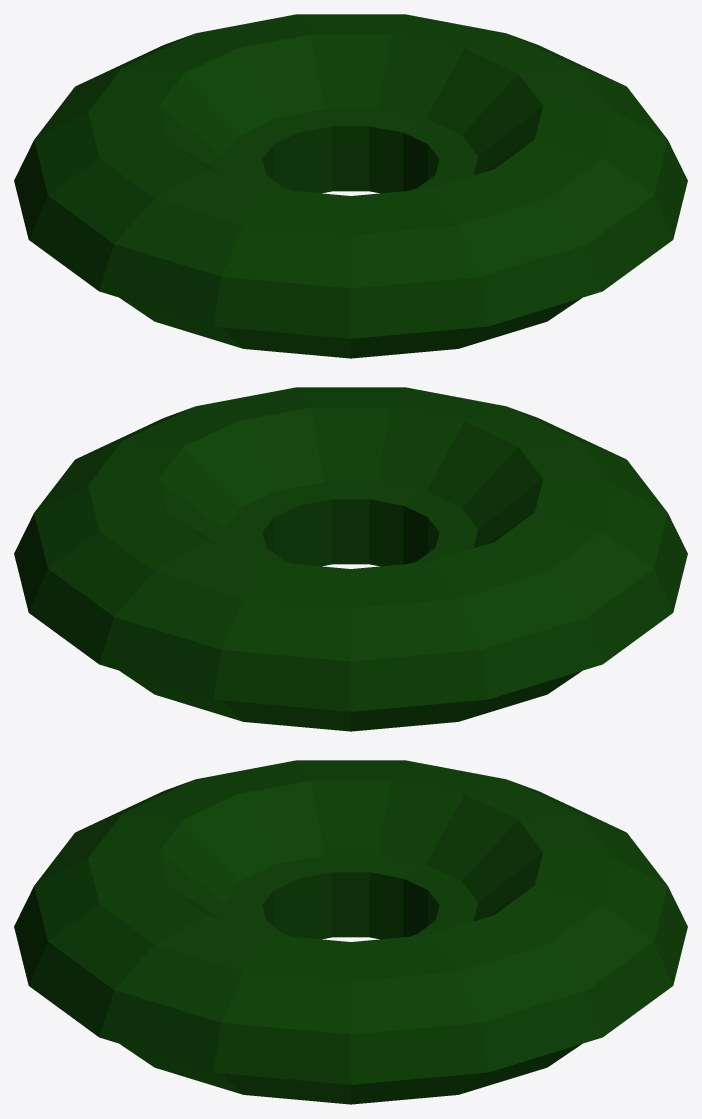
File: Oliva.glb
The picture shows the model from 3 angles, top to bottom: view 1: azimuth 30°, elevation 25°; view 2: azimuth 150°, elevation 25°; view 3: azimuth 270°, elevation 25°; orthographic projection.
Visible parts, largest first — view 1: Oliva; view 2: Oliva; view 3: Oliva.
Boxes of the visible parts, x1,y1,x2,y2 form: Oliva: (14,14,687,358); Oliva: (14,387,687,731); Oliva: (14,760,687,1104).
Bounding box in the file's own units: 0.00981 × 0.00229 × 0.00986.
